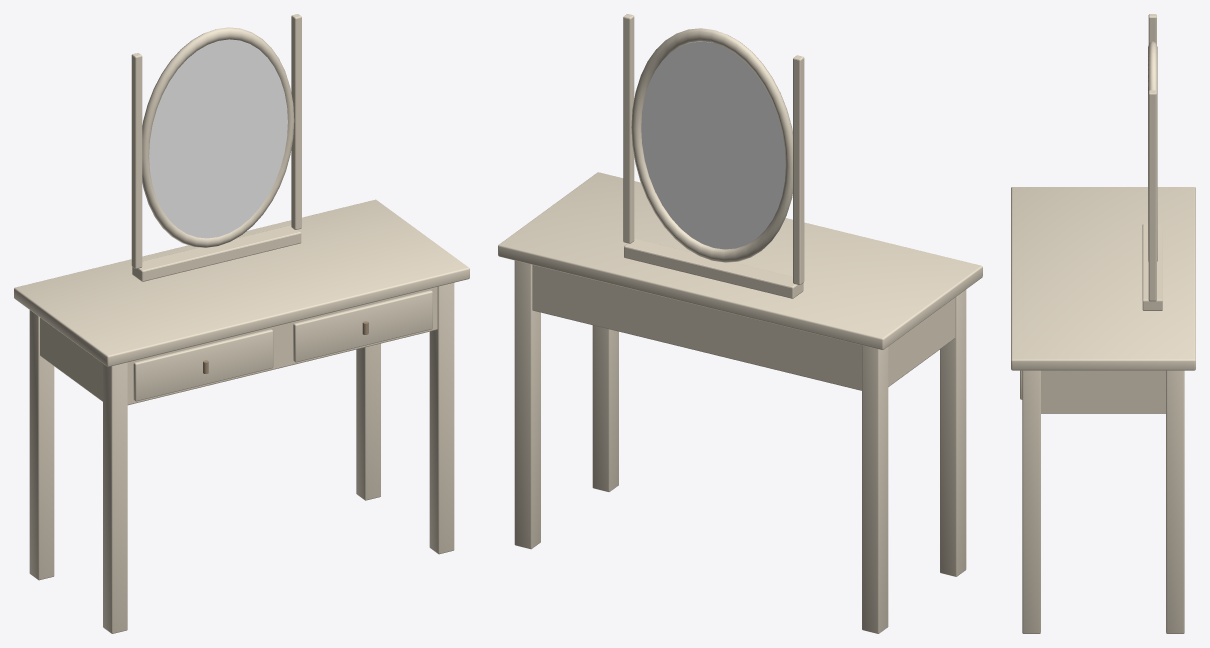
Rendered from sg_dresser.glb.
3 views of the same model, side by side, from view 1: azimuth 30°, elevation 25°; view 2: azimuth 150°, elevation 25°; view 3: azimuth 270°, elevation 25° (orthographic). The views are drawn at different scales.
Visible parts, largest first — view 1: top, glass, stand, leg00, leg10, leg01, drawer0, drawer1, oval, apron, leg11; view 2: top, glass, apron, stand, leg01, leg11, oval, leg00, leg10; view 3: top, apron, leg10, leg11, stand, oval.
Part boxes in pixels (x1=…): top: x1=14, y1=199, x2=469, y2=366; glass: x1=149, y1=39, x2=287, y2=238; stand: x1=131, y1=14, x2=301, y2=281; leg00: x1=103, y1=362, x2=127, y2=633; leg10: x1=429, y1=283, x2=454, y2=554; leg01: x1=29, y1=310, x2=54, y2=580; drawer0: x1=133, y1=329, x2=273, y2=401; drawer1: x1=293, y1=290, x2=432, y2=362; oval: x1=142, y1=27, x2=294, y2=247; apron: x1=40, y1=287, x2=437, y2=405; leg11: x1=356, y1=343, x2=380, y2=500; top: x1=498, y1=172, x2=982, y2=349; glass: x1=641, y1=41, x2=785, y2=249; apron: x1=532, y1=265, x2=955, y2=390; stand: x1=623, y1=14, x2=804, y2=298; leg01: x1=862, y1=345, x2=888, y2=633; leg11: x1=514, y1=260, x2=540, y2=549; oval: x1=631, y1=28, x2=792, y2=262; leg00: x1=940, y1=289, x2=966, y2=576; leg10: x1=592, y1=325, x2=618, y2=491; top: x1=1011, y1=187, x2=1195, y2=370; apron: x1=1041, y1=370, x2=1165, y2=413; leg10: x1=1022, y1=370, x2=1040, y2=633; leg11: x1=1166, y1=370, x2=1184, y2=633; stand: x1=1142, y1=14, x2=1162, y2=310; oval: x1=1148, y1=41, x2=1157, y2=261.
Bounding box in the file's own units: 1 × 1.36 × 0.45.
